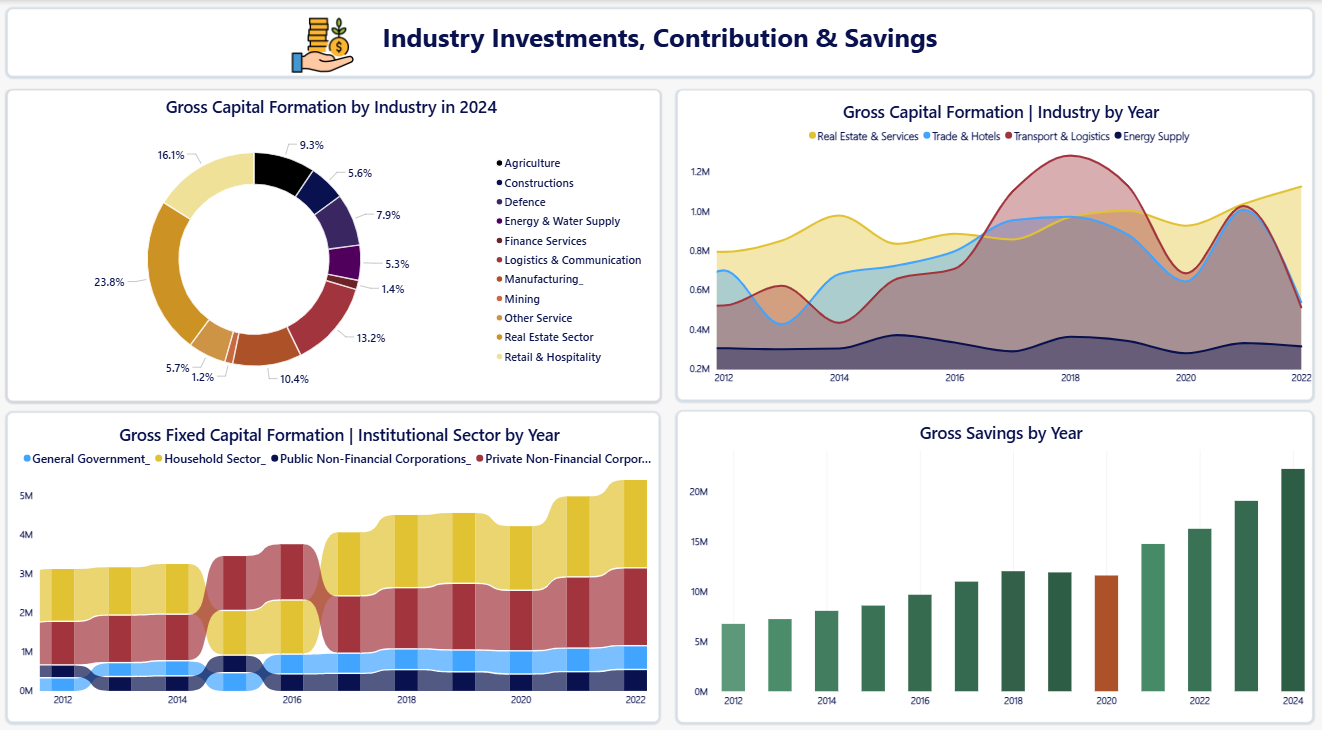

The page's visual inventory and layout, read from the dashboard file:
{"tool":"powerbi","page":{"name":"Investments","canvas":[1920,1080],"ordinal":2},"visuals":[{"type":"textbox","box":[10.9,12.7,1889.3,97.7],"z":0},{"type":"image","box":[376.6,19.5,181.8,90.9],"z":1000},{"type":"lineChart","title":"Gross Capital Formation | Industry by Year","fields":{"Category":["annual data (2).Year_1"],"Y":["annual data (2).Real Estate & Services","annual data (2).Trade & Hotels","annual data (2).Transport & Logistics","annual data.Energy Supply"]},"box":[980.8,130.3,919.3,448.8],"z":2000},{"type":"donutChart","title":"Gross Capital Formation by Industry in 2024","fields":{"Y":["annual data (3).Agriculture","annual data (3).Constructions","annual data (3).Defence","annual data (3).Energy & Water Supply","annual data (3).Finance Services","annual data (3).Logistics & Communication","annual data (3).Manufacturing_","annual data (3).Mining","annual data (3).Other Service","annual data (3).Real Estate Sector","annual data (3).Retail & Hospitality"]},"box":[10.9,130.3,944.6,450.6],"z":3000},{"type":"clusteredColumnChart","title":"Gross Savings by Year","fields":{"Category":["annual data 2.Year_1"],"Y":["annual data 2.Total Gross Saving"]},"box":[980.8,595.4,919.3,450.6],"z":4000},{"type":"ribbonChart","title":"Gross Fixed Capital Formation | Institutional Sector by Year","fields":{"Category":["annual data (2).Year_1"],"Y":["Gross Fixed Capital Formation.General Government_","Gross Fixed Capital Formation.Household Sector_","Gross Fixed Capital Formation.Public Non-Financial Corporations_","Gross Fixed Capital Formation.Private Non-Financial Corporations_"]},"box":[10.8,597.3,943.6,448],"z":5000}]}

Visuals, with their boxes in screenshot pixels (x1, y1, x2, y2), scaled from the page's 1920x1080 canvas onto the 1322x730 screenshot:
textbox: locate(8, 9, 1308, 75)
image: locate(259, 13, 384, 75)
"Gross Capital Formation | Industry by Year" lineChart: locate(675, 88, 1308, 391)
"Gross Capital Formation by Industry in 2024" donutChart: locate(8, 88, 658, 393)
"Gross Savings by Year" clusteredColumnChart: locate(675, 402, 1308, 707)
"Gross Fixed Capital Formation | Institutional Sector by Year" ribbonChart: locate(7, 404, 657, 707)
